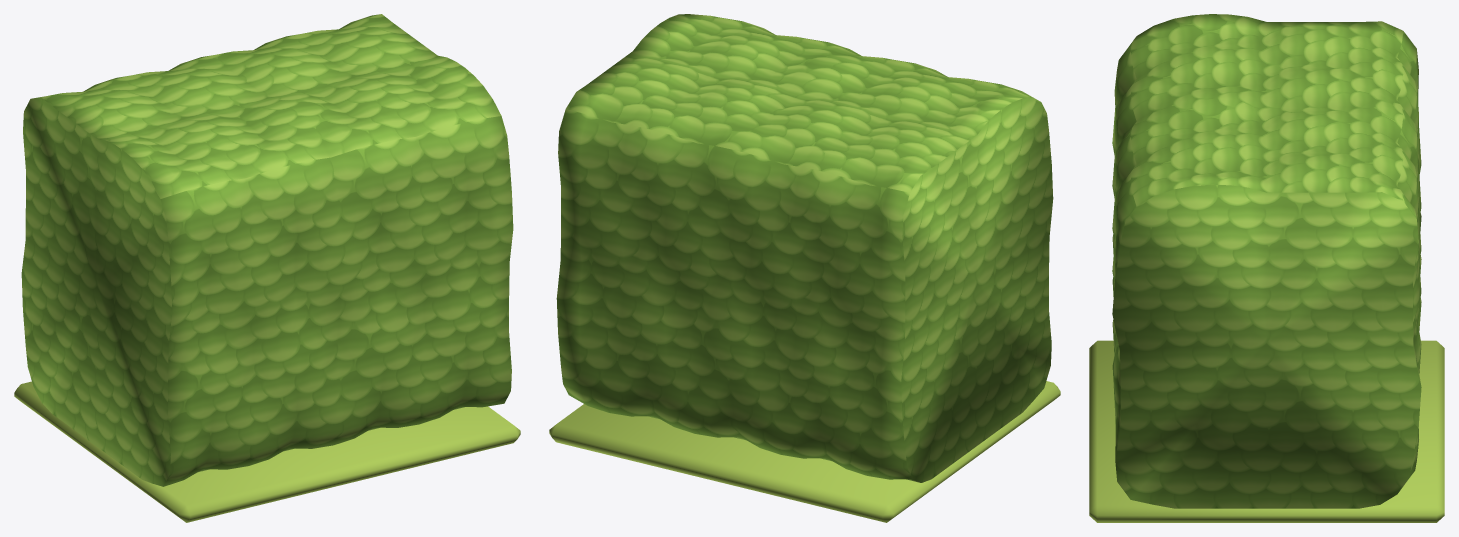
Rendered from hedge-short.glb.
3 renders of one model, left to right at view 1: azimuth 30°, elevation 25°; view 2: azimuth 150°, elevation 25°; view 3: azimuth 270°, elevation 25°, orthographic. The views are drawn at different scales.
Parts seen in each view (by area): view 1: body; view 2: body; view 3: body.
Boxes of the visible parts, x1,y1,x2,y2 form: body: (14,14,520,522); body: (549,14,1060,522); body: (1089,14,1444,522).
Bounding box in the file's own units: 1 × 0.9331 × 0.88.
2 materials, 1 textured.
